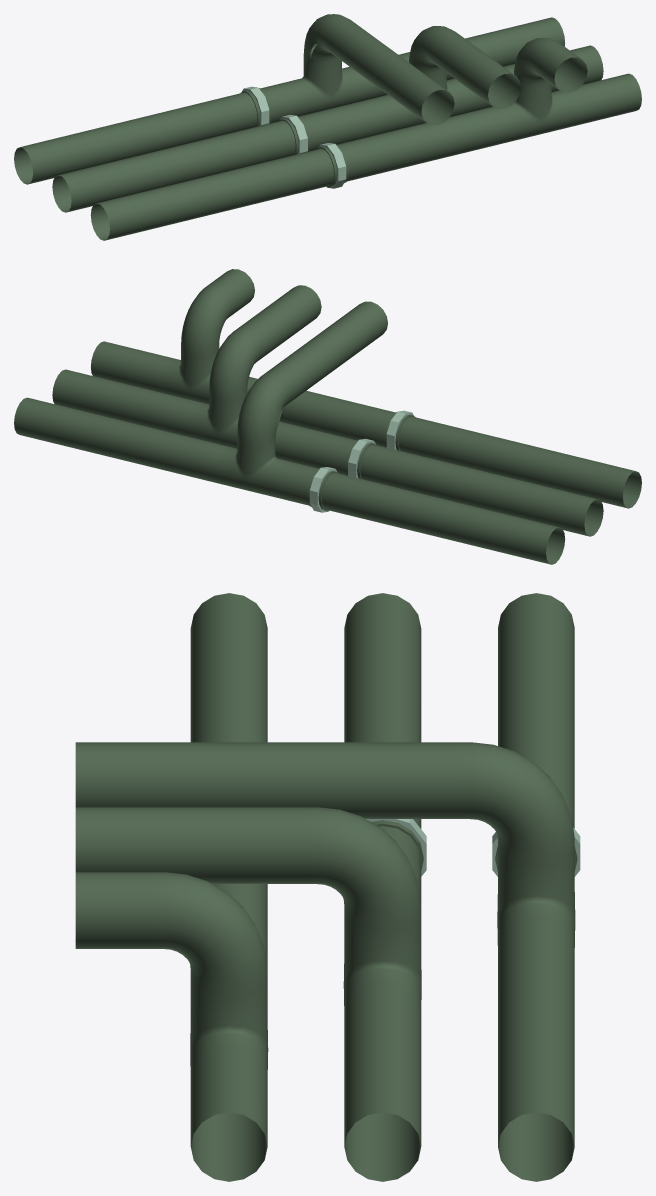
The model's file is PipeComplexLarge_A1_03.fbx.
The picture shows the model from 3 angles, top to bottom: view 1: azimuth 30°, elevation 25°; view 2: azimuth 150°, elevation 25°; view 3: azimuth 270°, elevation 25°; orthographic projection. The views are drawn at different scales.
Visible parts, largest first — view 1: PipeComplexLarge_A1_03.001; view 2: PipeComplexLarge_A1_03.001; view 3: PipeComplexLarge_A1_03.001.
Part boxes in pixels (box(x1,y1,x2,y2)): PipeComplexLarge_A1_03.001: box(14, 14, 641, 240); PipeComplexLarge_A1_03.001: box(14, 269, 641, 564); PipeComplexLarge_A1_03.001: box(75, 593, 580, 1181).
Bounding box in the file's own units: 3.2 × 0.6206 × 1.31.
